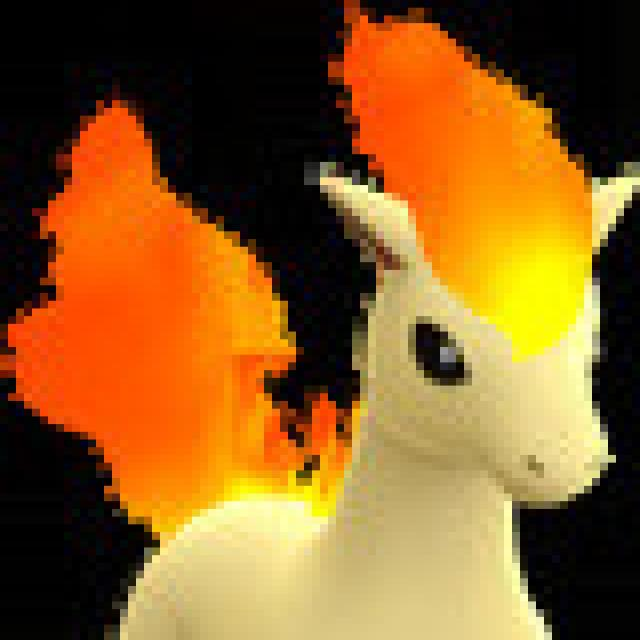Ponyta: (195, 126, 640, 640)
